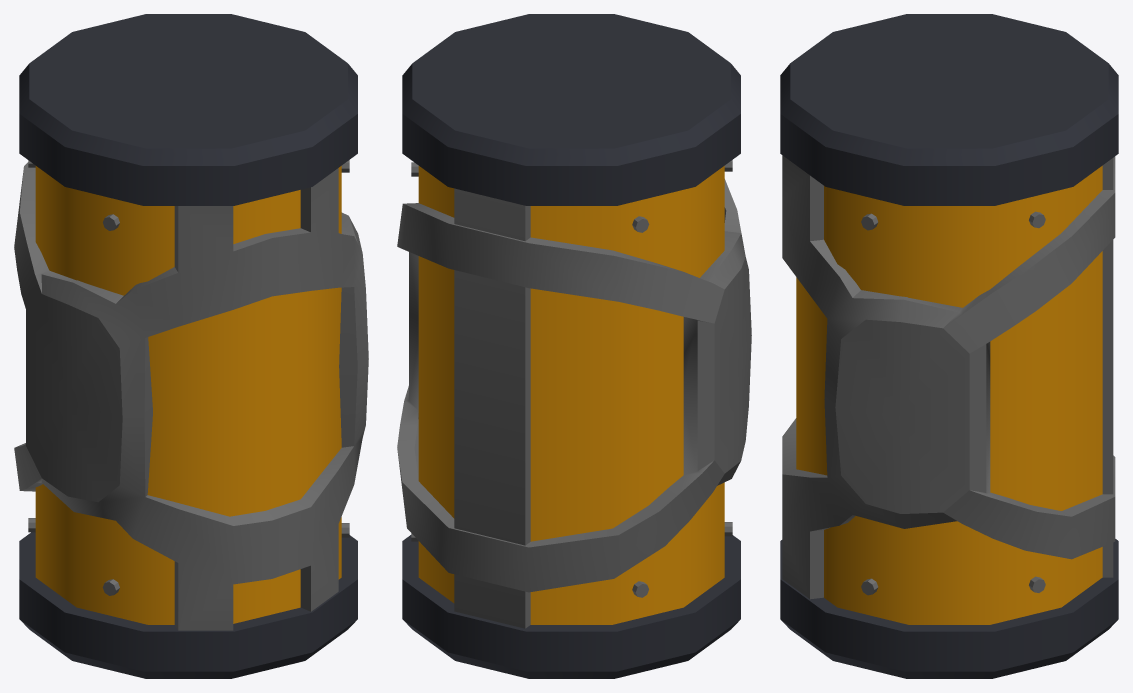
File: Fuel_Tank_1.fbx
The picture shows the model from 3 angles, left to right: view 1: azimuth 30°, elevation 25°; view 2: azimuth 150°, elevation 25°; view 3: azimuth 270°, elevation 25°; orthographic projection.
Parts seen in each view (by area): view 1: mergedBlocks; view 2: mergedBlocks; view 3: mergedBlocks.
Part boxes in pixels (x1,y1,x2,y2): mergedBlocks: [14, 14, 368, 678]; mergedBlocks: [397, 14, 751, 678]; mergedBlocks: [780, 14, 1118, 678].
Size of the model in its own units: 6.01 by 10 by 5.77.
